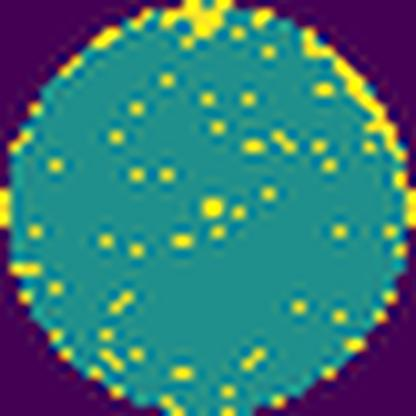Edge-Loc: (298, 27, 404, 156), (153, 0, 238, 47)
